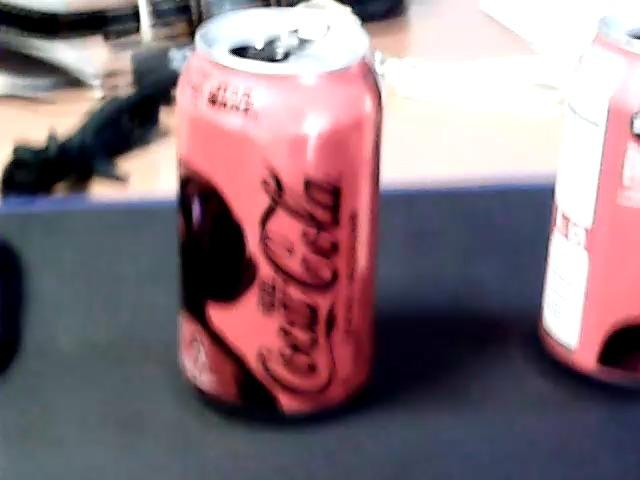coke: (172, 4, 381, 422), (542, 19, 640, 391)
